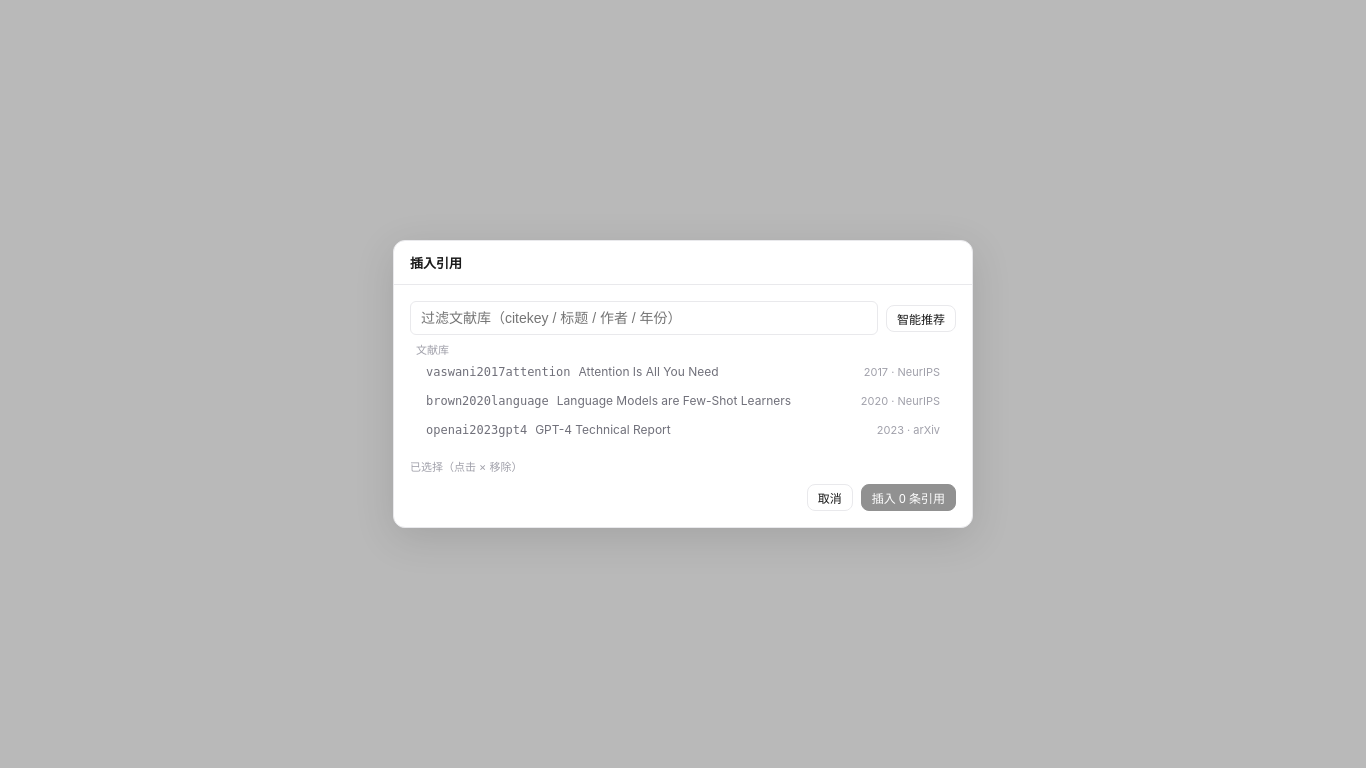
Test: CitationPicker › 空选择禁用「插入」按钮；选中后按钮显示条数
Expected: the button with class "sf-citepicker-insert" is disabled, [861,484,956,511]
Click the option with class "sf-citepicker-row" that starts with "vaswani2017attention" at (683, 372), box [426,364,940,379]
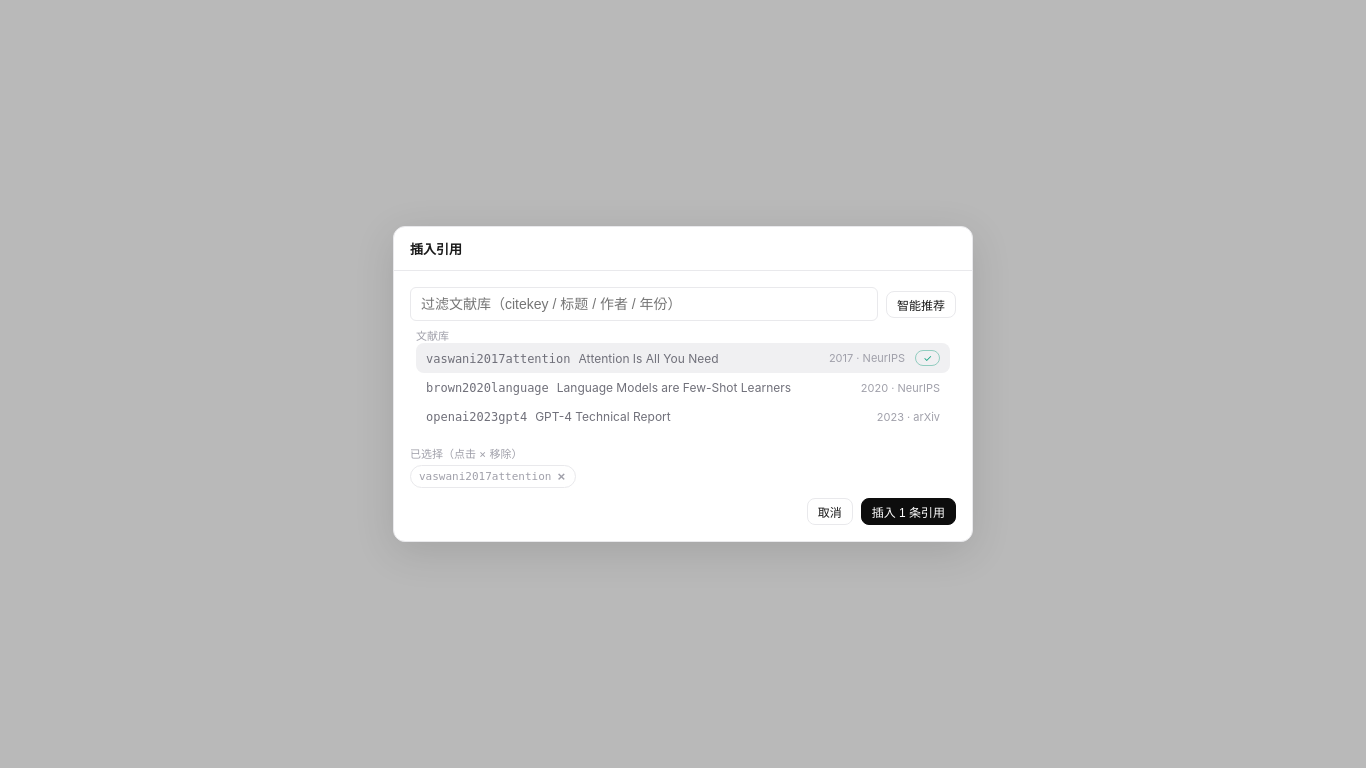
Expected: the button with class "sf-citepicker-insert" is enabled, [861,498,956,525]
Expected: the button with class "sf-citepicker-insert" shows "1", [861,498,956,525]
Click the option with class "sf-citepicker-row" that starts with "openai2023gpt4" at (477, 417), box [426,409,940,424]
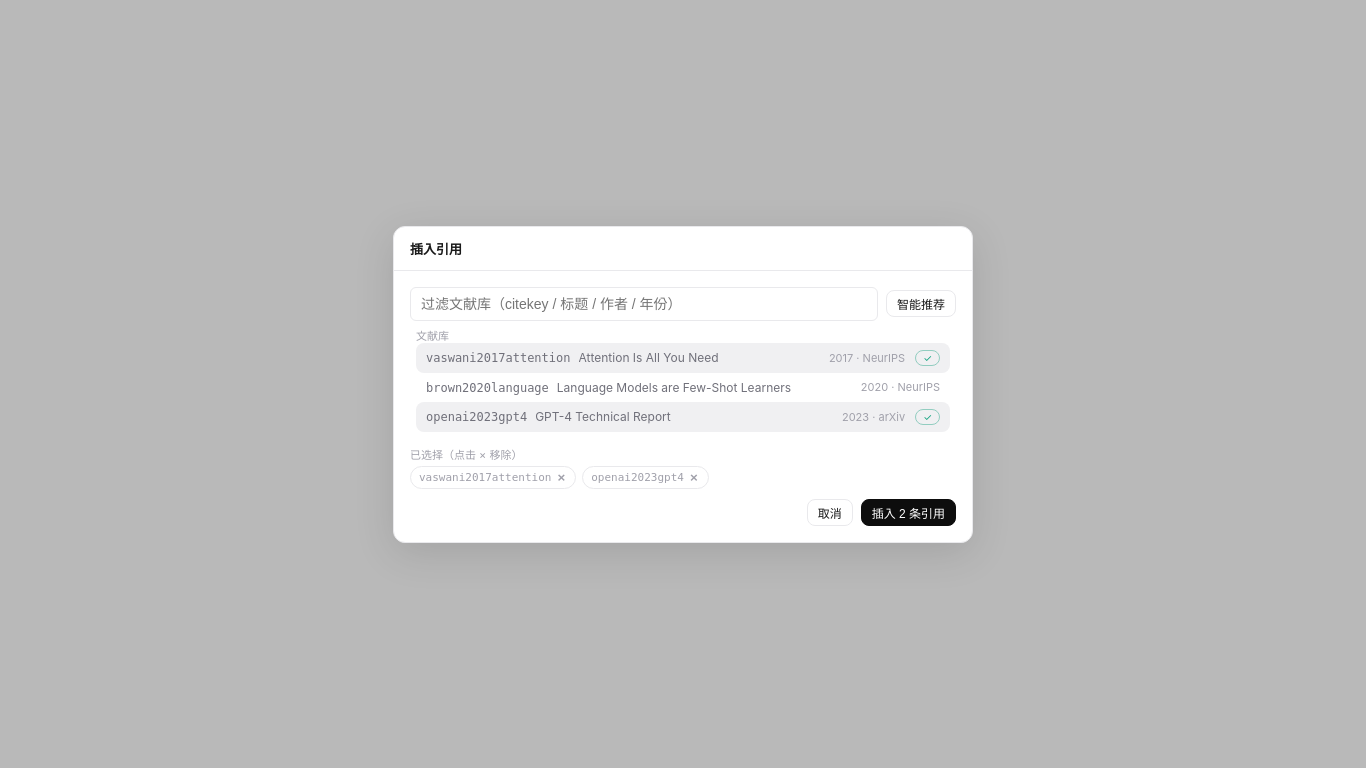
Expected: the button with class "sf-citepicker-insert" shows "2", [861,498,956,526]
